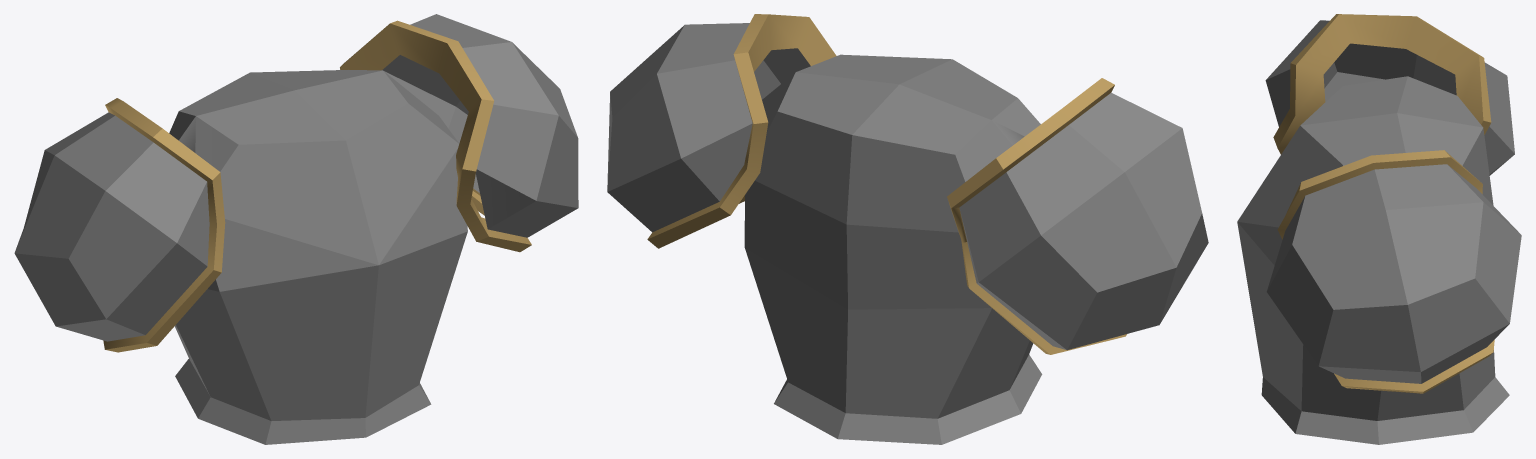
The model's file is armor.glb.
3 views of the same model, side by side, from view 1: azimuth 30°, elevation 25°; view 2: azimuth 150°, elevation 25°; view 3: azimuth 270°, elevation 25° (orthographic). The views are drawn at different scales.
Visible parts, largest first — view 1: Gilded Pauldron Left.001; view 2: Gilded Pauldron Left.001; view 3: Gilded Pauldron Left.001.
Part boxes in pixels (bbox=[...]): Gilded Pauldron Left.001: bbox=[14, 14, 578, 444]; Gilded Pauldron Left.001: bbox=[607, 14, 1208, 444]; Gilded Pauldron Left.001: bbox=[1237, 14, 1521, 444].
Bounding box in the file's own units: 8.73 × 5.14 × 4.15.
1 material, 1 textured.
